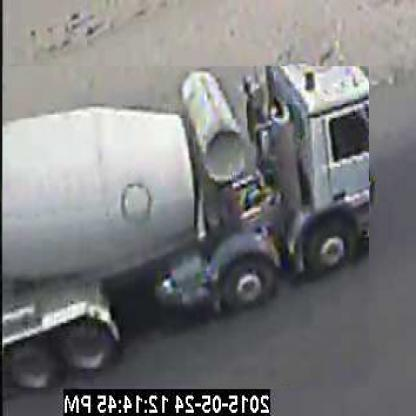truck: (2, 67, 370, 390)
